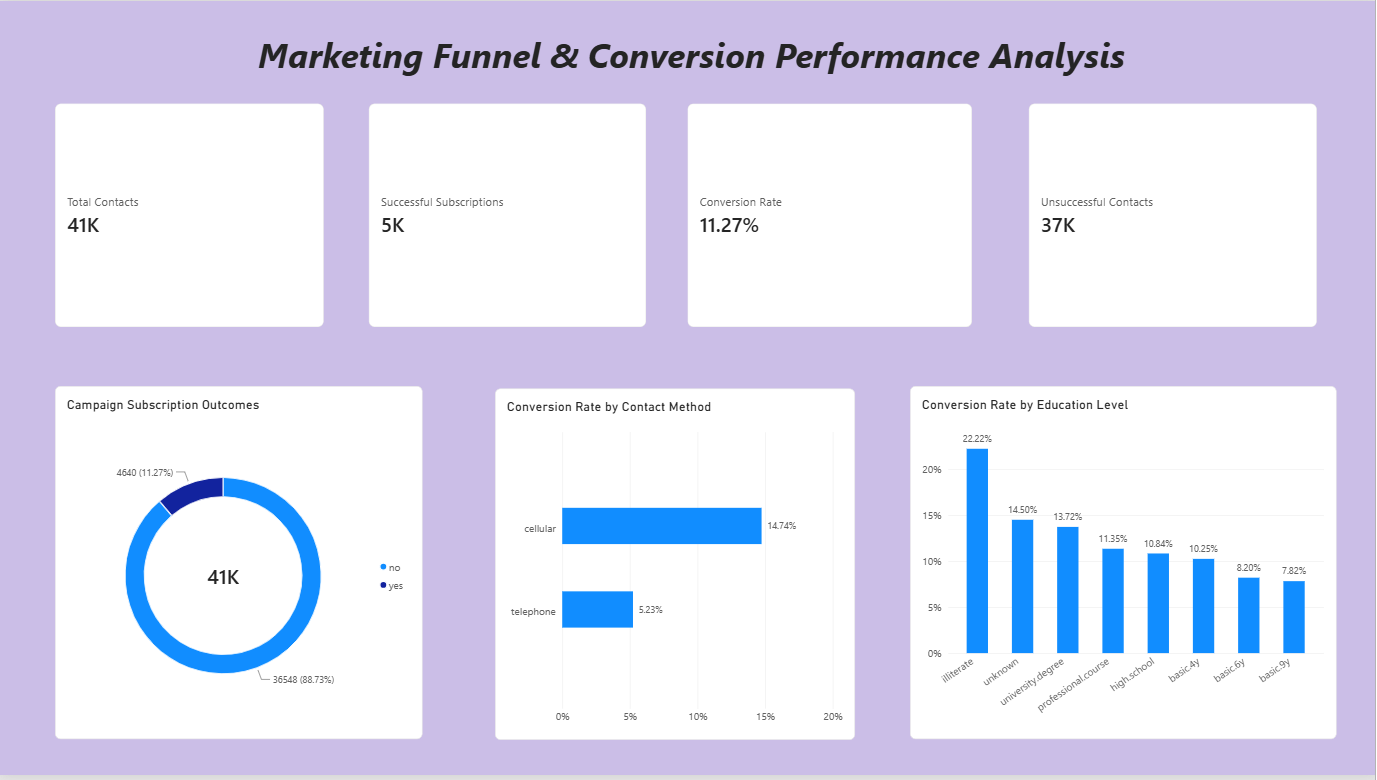

The page's visual inventory and layout, read from the dashboard file:
{"tool":"powerbi","page":{"name":"Marketing Dashboard","canvas":[1920,1080],"ordinal":0},"visuals":[{"type":"cardVisual","title":"Total Contacts","fields":{"Data":["Marketing_Campaigns.Total Contacts"]},"box":[77.5,142.5,375,312.5],"z":0},{"type":"cardVisual","title":"Successful Subscriptions","fields":{"Data":["Marketing_Campaigns.Successful Subscriptions"]},"box":[515,142.5,387.5,312.5],"z":1},{"type":"cardVisual","title":"Conversion Rate","fields":{"Data":["Marketing_Campaigns.Conversion Rate"]},"box":[960,142.5,397.5,312.5],"z":2},{"type":"cardVisual","title":"Unsuccessful Contacts","fields":{"Data":["Marketing_Campaigns.Unsuccessful Contacts"]},"box":[1435,142.5,402.5,312.5],"z":3},{"type":"donutChart","title":"Campaign Subscription Outcomes","fields":{"Category":["Marketing_Campaigns.y"],"Y":["Marketing_Campaigns.Total Contacts"]},"box":[77.5,537.5,512.5,492.5],"z":4},{"type":"clusteredBarChart","title":"Conversion Rate by Contact Method","fields":{"Category":["Marketing_Campaigns.contact"],"Y":["Marketing_Campaigns.Conversion Rate"]},"box":[690,540,502.5,490],"z":5},{"type":"clusteredColumnChart","title":"Conversion Rate by Education Level","fields":{"Category":["Marketing_Campaigns.education"],"Y":["Marketing_Campaigns.Conversion Rate"]},"box":[1270,537.5,595,492.5],"z":6},{"type":"textbox","box":[27.5,42.5,1650,82.5],"z":7}]}

Visuals, with their boxes in screenshot pixels (x1, y1, x2, y2), scaled from the page's 1920x1080 canvas onto the 1377x780 screenshot:
"Total Contacts" cardVisual: crop(56, 103, 325, 329)
"Successful Subscriptions" cardVisual: crop(369, 103, 647, 329)
"Conversion Rate" cardVisual: crop(688, 103, 974, 329)
"Unsuccessful Contacts" cardVisual: crop(1029, 103, 1318, 329)
"Campaign Subscription Outcomes" donutChart: crop(56, 388, 423, 744)
"Conversion Rate by Contact Method" clusteredBarChart: crop(495, 390, 855, 744)
"Conversion Rate by Education Level" clusteredColumnChart: crop(911, 388, 1338, 744)
textbox: crop(20, 31, 1203, 90)
